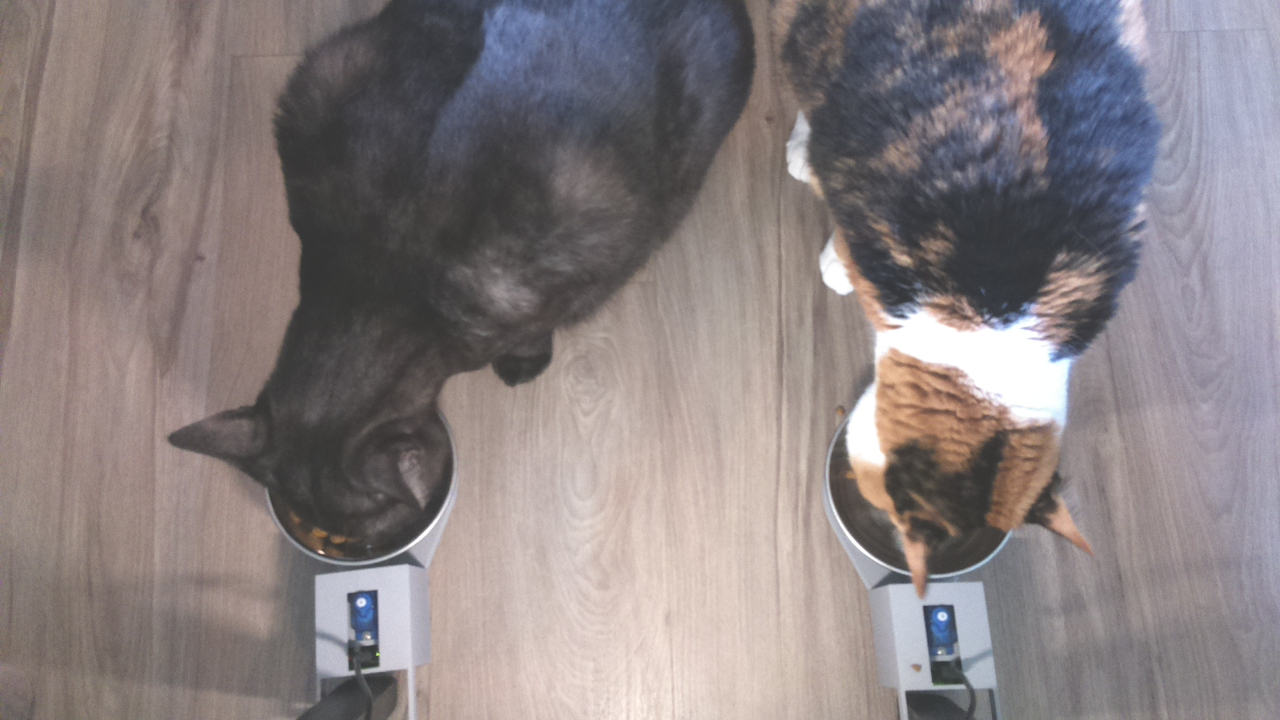bella_eating: (811, 294, 1109, 603)
saki_eating: (166, 305, 462, 577)
